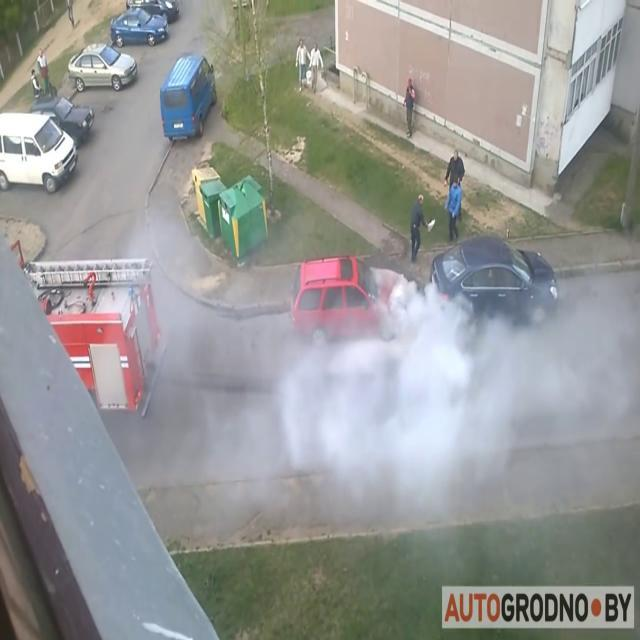Smoke: (259, 252, 640, 481)
